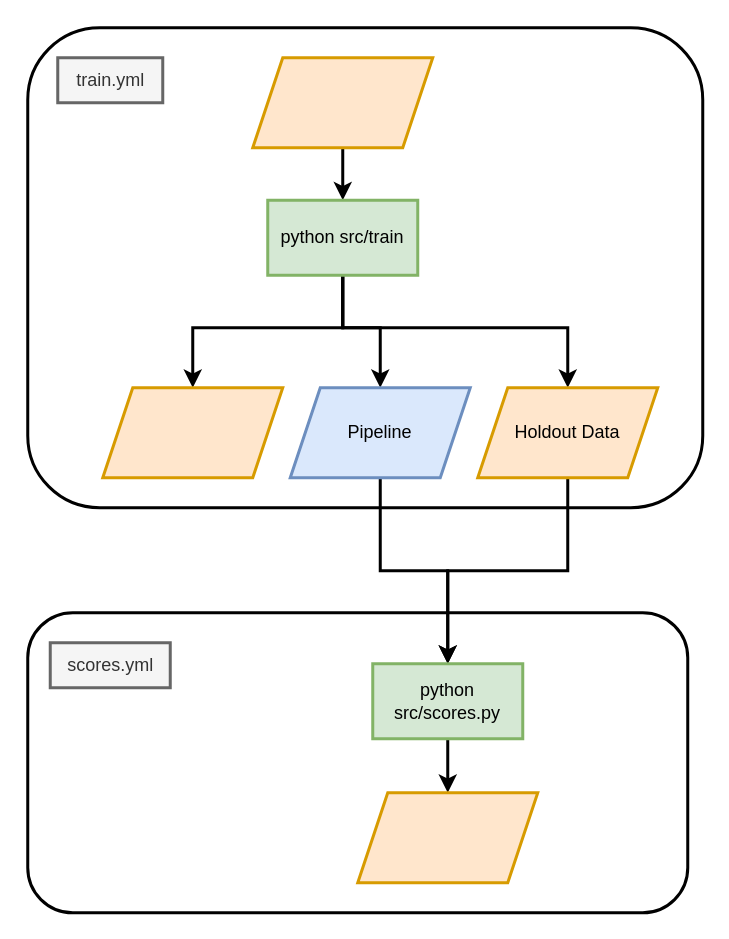
The diagram is 729 pixels wide and 939 high, and some of its shapes have lost their labels. Each missing label, with the centre of its shape:
"Churn Dataset" belongs at pixel 342 102.
"Report" belongs at pixel 192 432.
"Scores" belongs at pixel 447 837.
